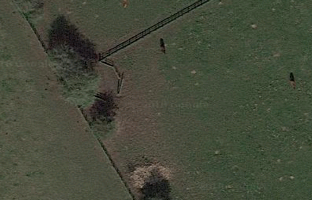tree: (45, 43, 103, 109), (85, 110, 120, 146)
